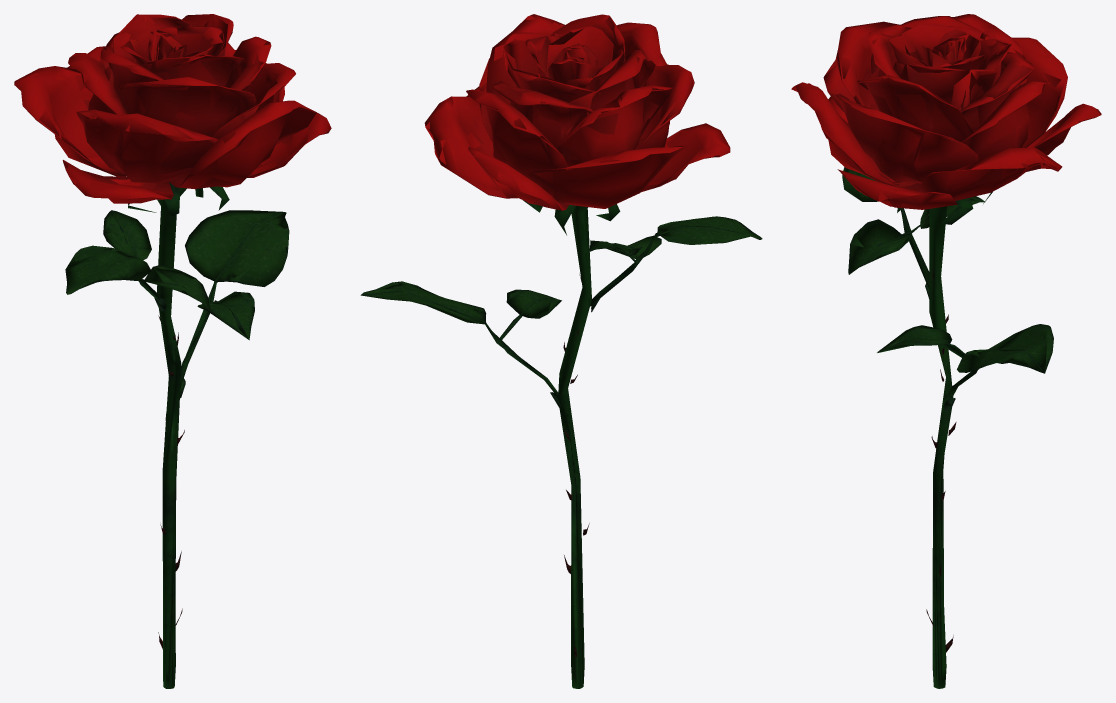
File: ceiling_rose_heliona.glb
The picture shows the model from 3 angles, left to right: view 1: azimuth 30°, elevation 25°; view 2: azimuth 150°, elevation 25°; view 3: azimuth 270°, elevation 25°; orthographic projection.
Size of the model in its own units: 0.5251 by 1.05 by 0.4514.
4 materials, 4 textured.
